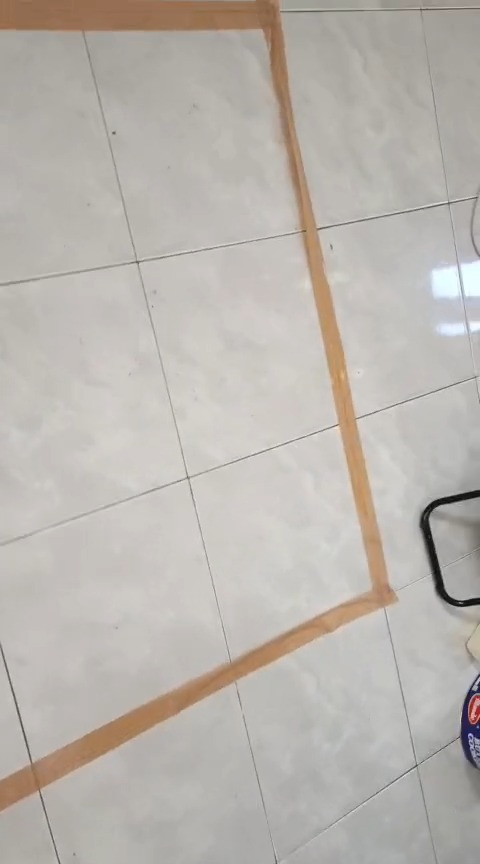floor marking: (0, 0, 395, 806)
